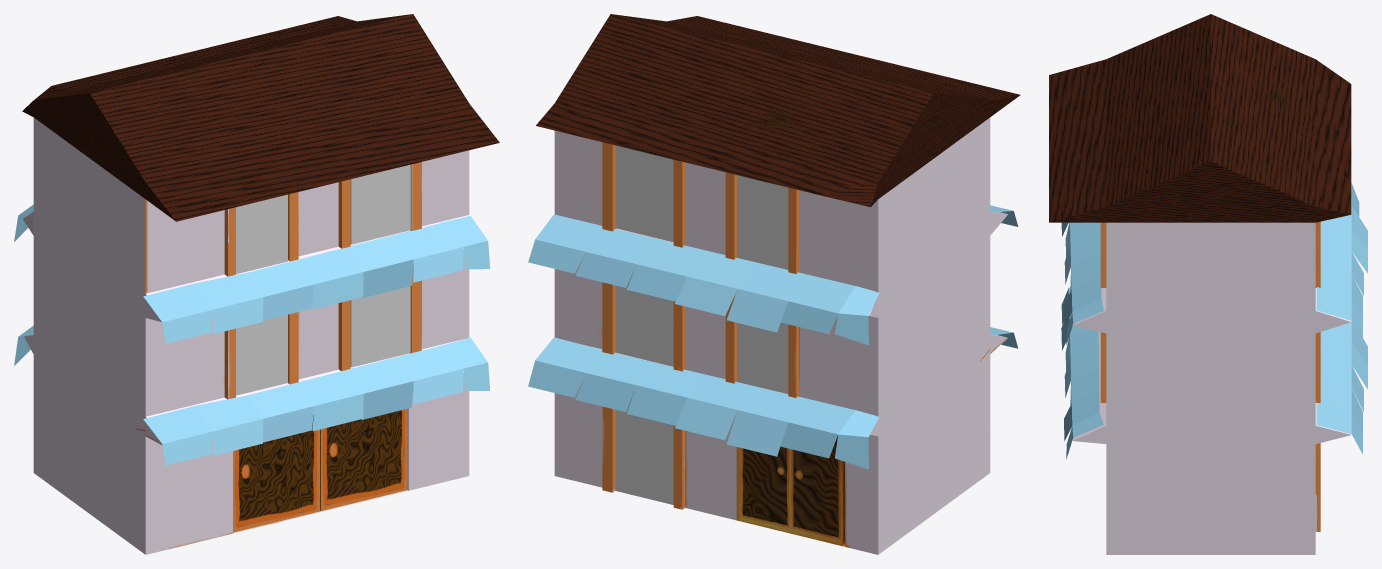
File: 3StoryHotel.fbx
3 renders of one model, left to right at view 1: azimuth 30°, elevation 25°; view 2: azimuth 150°, elevation 25°; view 3: azimuth 270°, elevation 25°, orthographic. The views are drawn at different scales.
Visible parts, largest first — view 1: BaseBuilding, Roof, Overhang.003, Overhang.002, Door.001, Door.002, Window.007, Window.006, Window.008, Window.009; view 2: BaseBuilding, Roof, Overhang.001, Overhang, Door, Window.004, Window.001, Window.005, Window.002, Window.003; view 3: BaseBuilding, Roof, Overhang, Overhang.001, Overhang.002, Overhang.003.
Part boxes in pixels (<box>): BaseBuilding: <box>23,117,469,554</box>; Roof: <box>22,14,499,221</box>; Overhang.003: <box>143,216,490,343</box>; Overhang.002: <box>143,337,490,465</box>; Door.001: <box>233,415,320,532</box>; Door.002: <box>320,408,407,511</box>; Window.007: <box>350,286,410,367</box>; Window.006: <box>350,164,410,244</box>; Window.008: <box>236,314,287,395</box>; Window.009: <box>236,194,287,274</box>; BaseBuilding: <box>554,117,1007,554</box>; Roof: <box>536,14,1020,207</box>; Overhang.001: <box>528,337,879,469</box>; Overhang: <box>528,214,879,345</box>; Door: <box>736,412,844,546</box>; Window.004: <box>615,145,673,242</box>; Window.001: <box>615,390,673,504</box>; Window.005: <box>737,175,788,269</box>; Window.002: <box>615,267,673,366</box>; Window.003: <box>737,322,788,393</box>; BaseBuilding: <box>1072,221,1351,554</box>; Roof: <box>1049,14,1351,222</box>; Overhang: <box>1316,183,1367,338</box>; Overhang.001: <box>1316,321,1367,454</box>; Overhang.002: <box>1061,287,1103,458</box>; Overhang.003: <box>1061,222,1103,345</box>.
Size of the model in its own units: 2040 by 2486 by 1827.
Materials: 11 (5 with a texture image).
